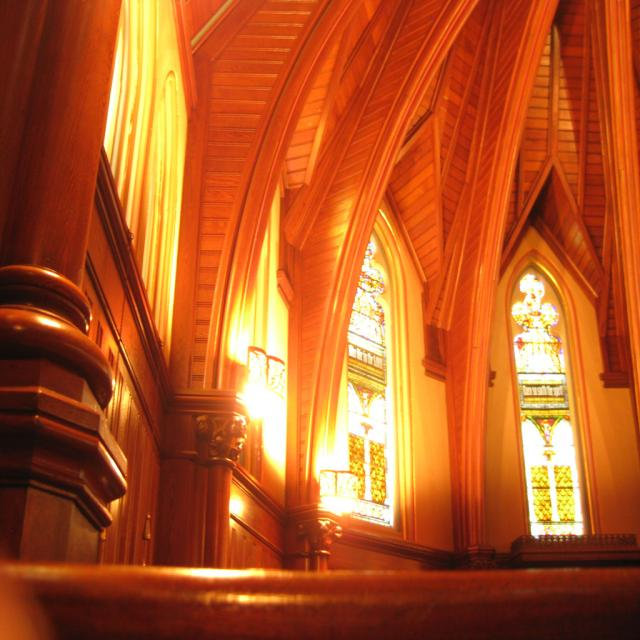no_fire: (304, 139, 450, 596), (69, 0, 235, 383), (195, 194, 324, 506), (504, 207, 588, 567)
